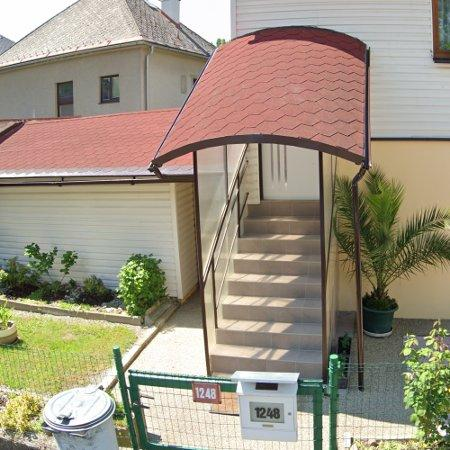stairs: (211, 200, 322, 378)
